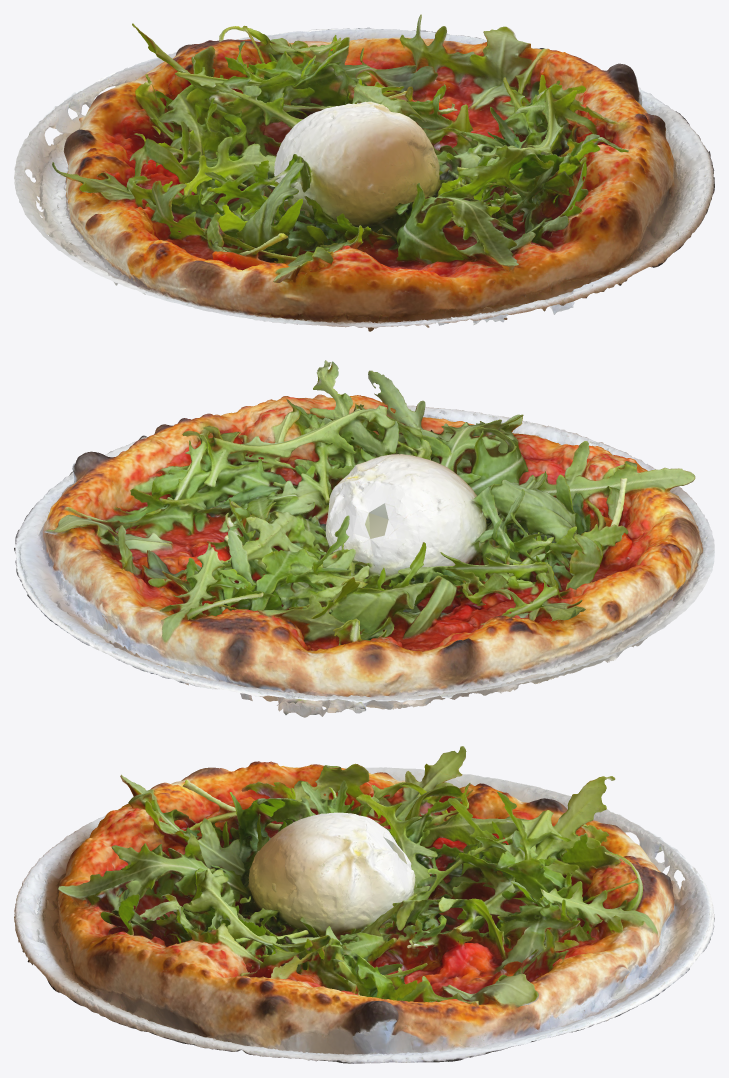
Rendered from pizza_ballerina.glb.
The picture shows the model from 3 angles, top to bottom: view 1: azimuth 30°, elevation 25°; view 2: azimuth 150°, elevation 25°; view 3: azimuth 270°, elevation 25°; orthographic projection.
Parts seen in each view (by area): view 1: Object_2; view 2: Object_2; view 3: Object_2.
Boxes of the visible parts, x1,y1,x2,y2 form: Object_2: (14, 14, 714, 331); Object_2: (14, 360, 714, 717); Object_2: (14, 746, 714, 1063).
Size of the model in its own units: 0.33 by 0.0648 by 0.3329.
1 material, 1 textured.
